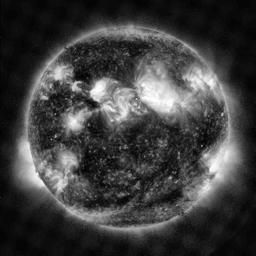solar flares: (141, 78, 177, 112), (63, 110, 89, 133), (57, 143, 77, 172), (188, 69, 212, 91), (117, 90, 133, 122), (53, 63, 72, 87), (92, 76, 107, 102), (213, 141, 221, 172), (72, 79, 84, 94), (200, 144, 208, 163)
sunspots: (105, 38, 147, 57), (92, 190, 134, 206), (165, 132, 180, 173), (78, 144, 95, 178), (127, 128, 148, 154), (153, 188, 183, 204), (91, 117, 112, 139), (36, 122, 55, 143), (200, 120, 213, 146), (77, 64, 95, 81), (51, 89, 66, 109), (73, 43, 88, 59), (85, 94, 98, 106), (106, 157, 118, 170)
